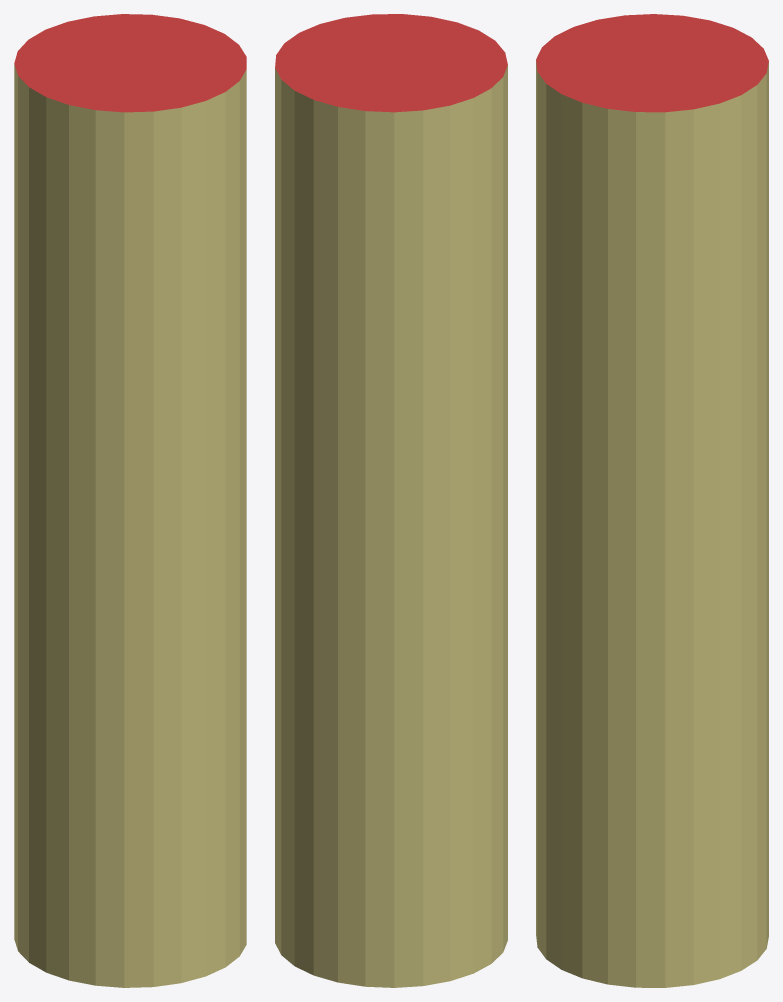
3 renders of one model, left to right at view 1: azimuth 30°, elevation 25°; view 2: azimuth 150°, elevation 25°; view 3: azimuth 270°, elevation 25°, orthographic.
Bounding box in the file's own units: 2.65 × 2.65 × 11.
